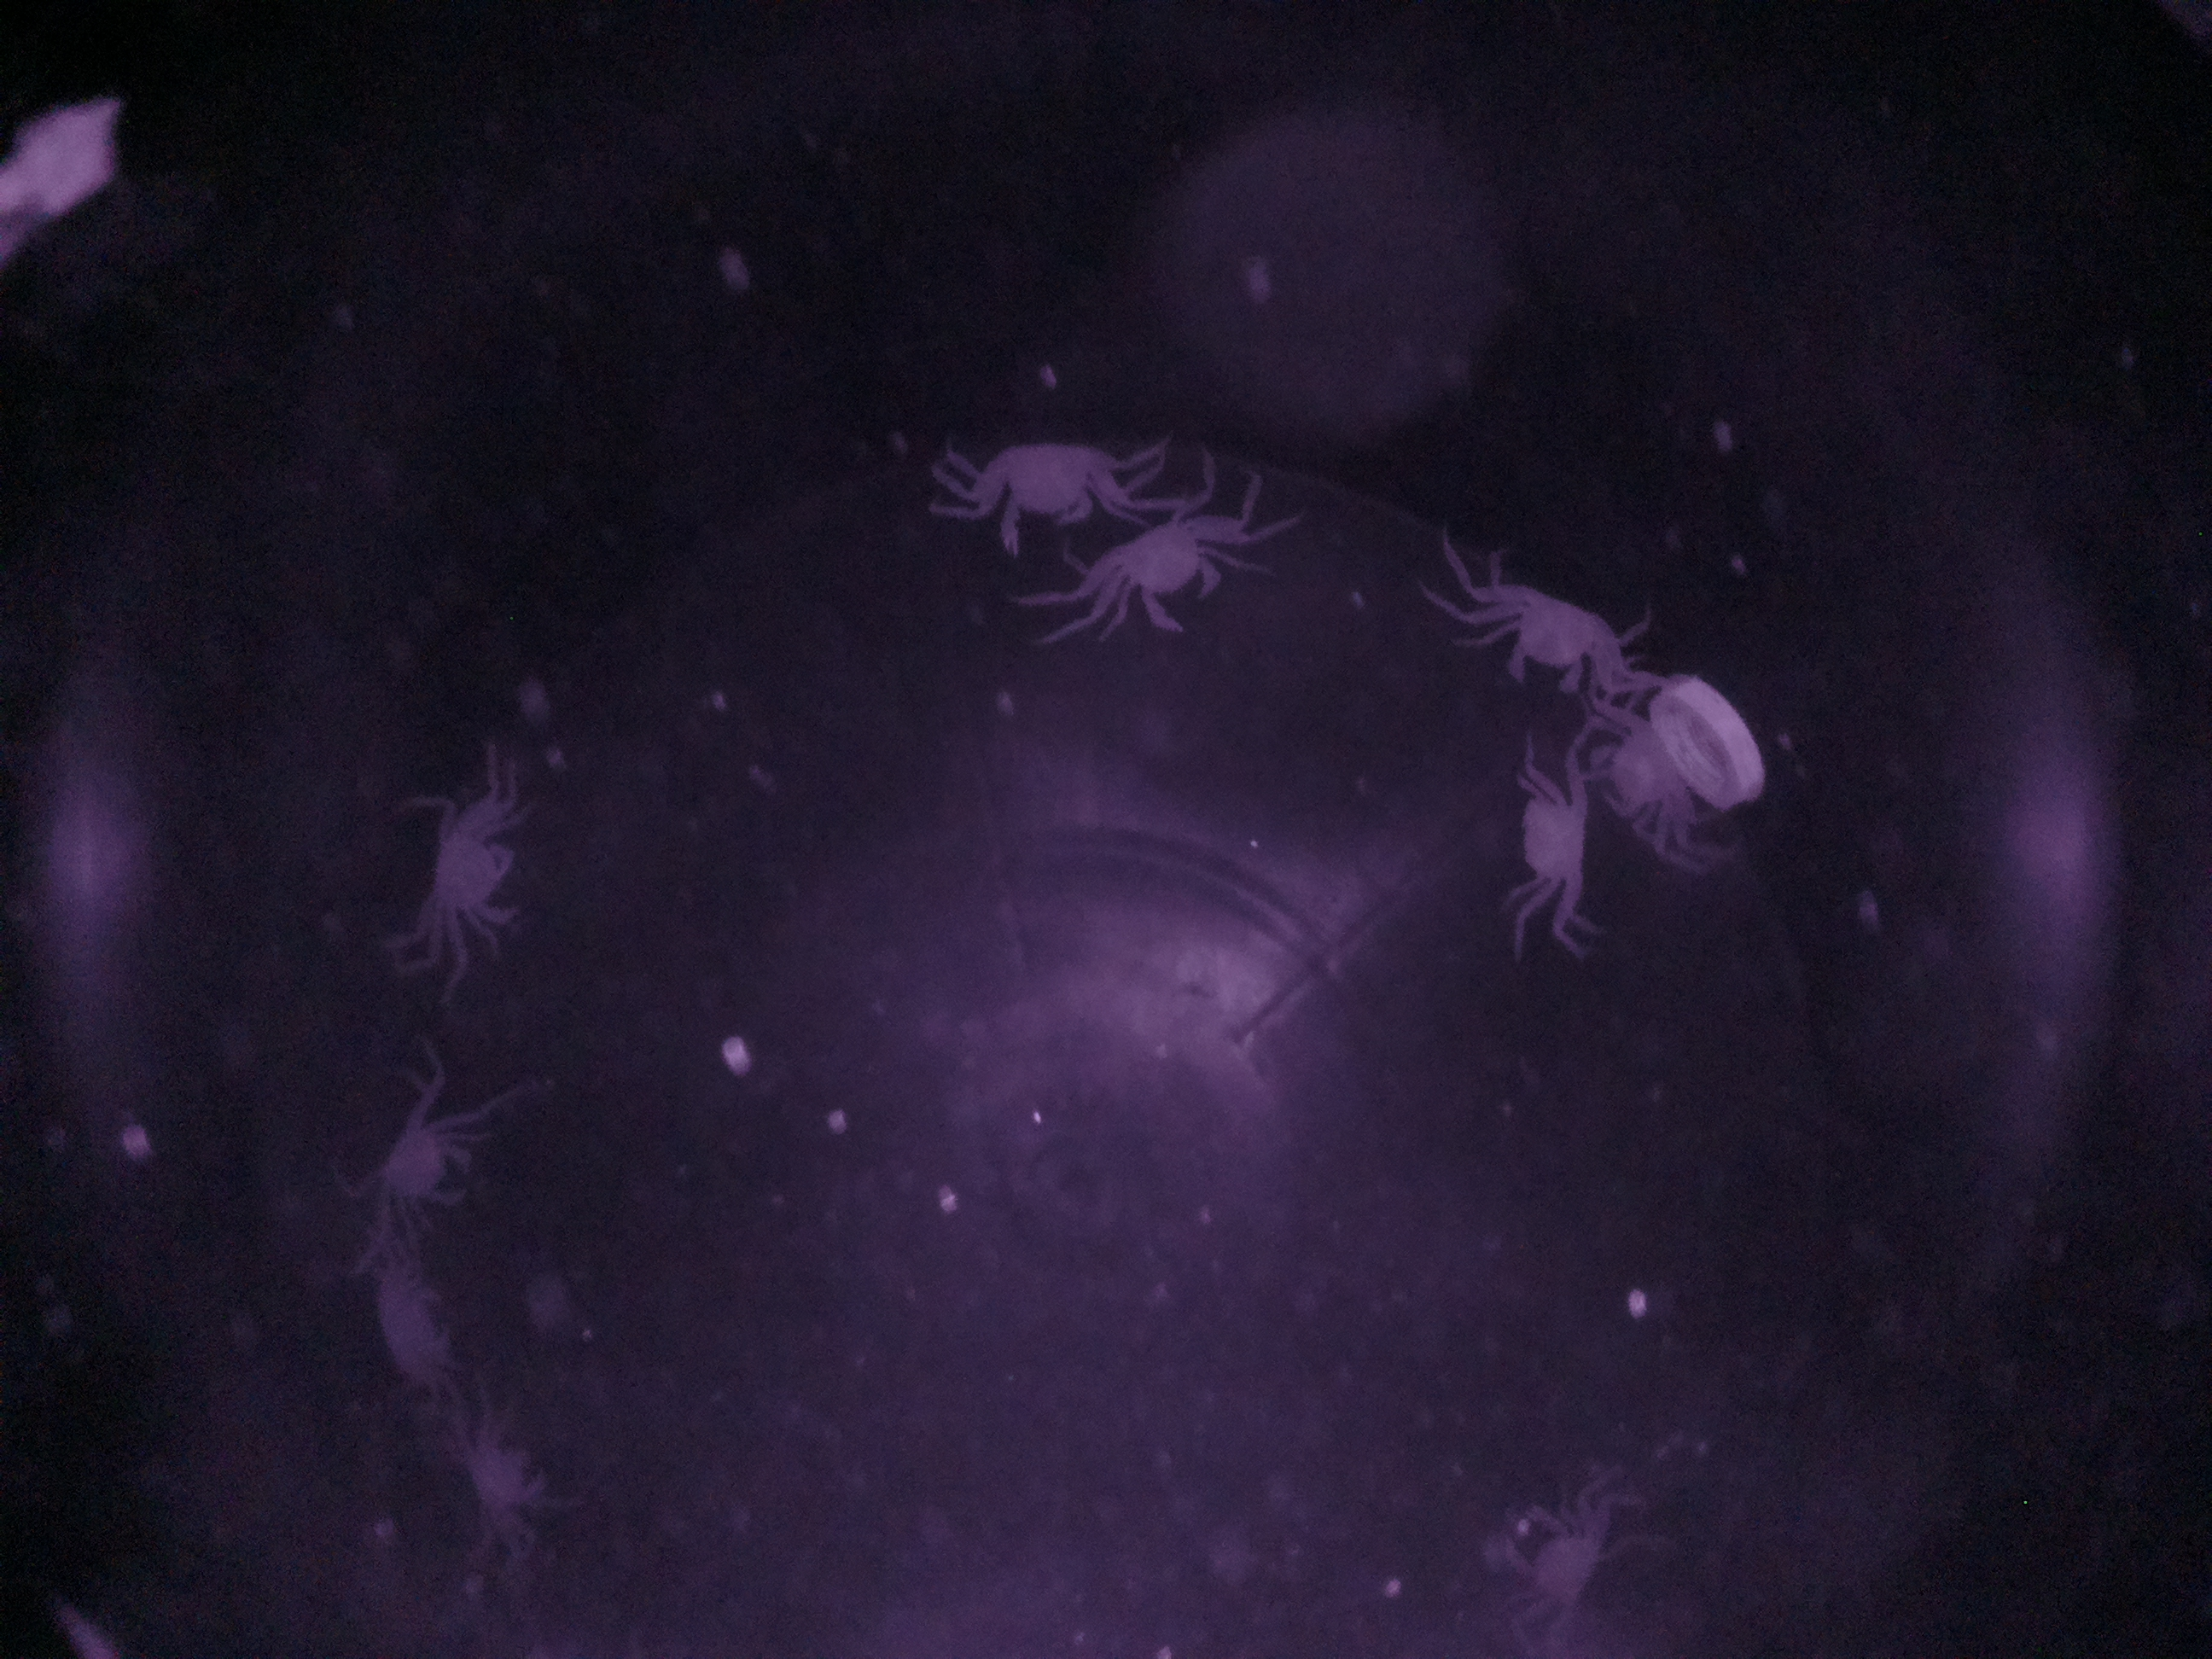Crab: (949, 401, 1144, 563), (1458, 565, 1672, 702), (1103, 476, 1254, 660), (395, 781, 543, 967), (345, 1073, 517, 1232), (1480, 1485, 1635, 1638), (1494, 742, 1609, 941)
